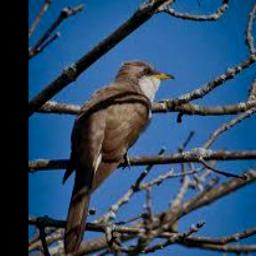Cuckoo: (60, 61, 172, 256)
